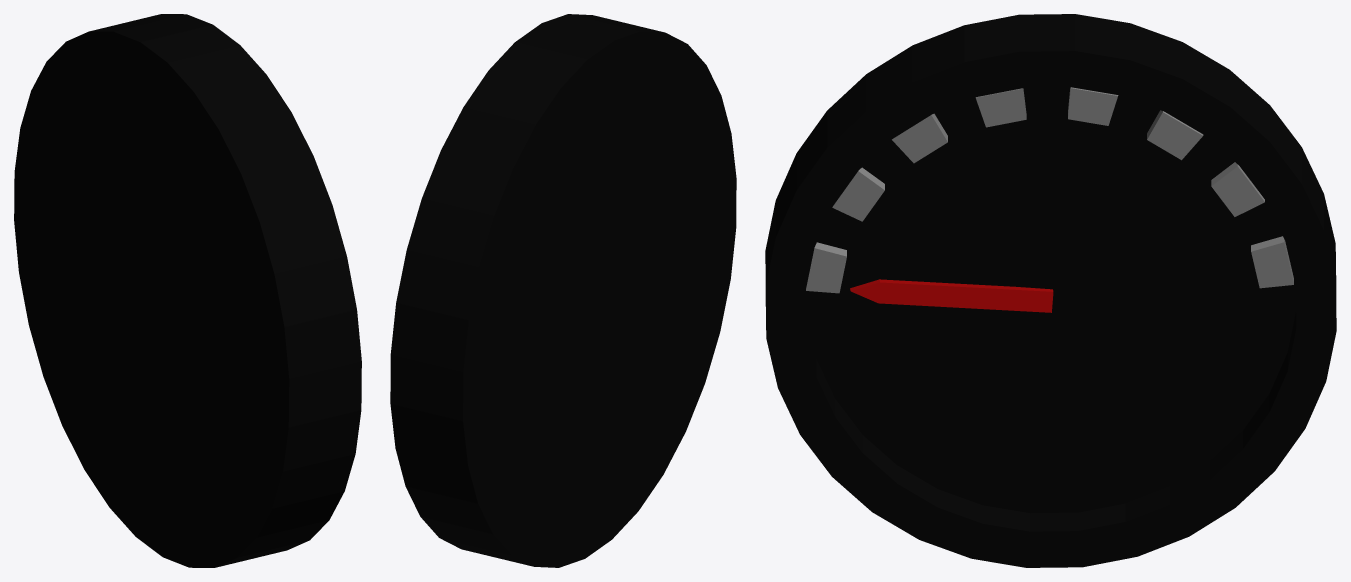
File: speedometer.glb
3 renders of one model, left to right at view 1: azimuth 30°, elevation 25°; view 2: azimuth 150°, elevation 25°; view 3: azimuth 270°, elevation 25°, orthographic. The views are drawn at different scales.
Parts seen in each view (by area): view 1: Cylinder; view 2: Cylinder; view 3: Cylinder, Cylinder.001, Cube.
Boxes of the visible parts, <box> form: Cylinder: <box>14,14,361,567</box>; Cylinder: <box>390,14,736,567</box>; Cylinder: <box>765,14,1336,567</box>; Cylinder.001: <box>806,87,1293,293</box>; Cube: <box>850,279,1053,312</box>.
Bounding box in the file's own units: 0.31 × 1.99 × 1.99.
